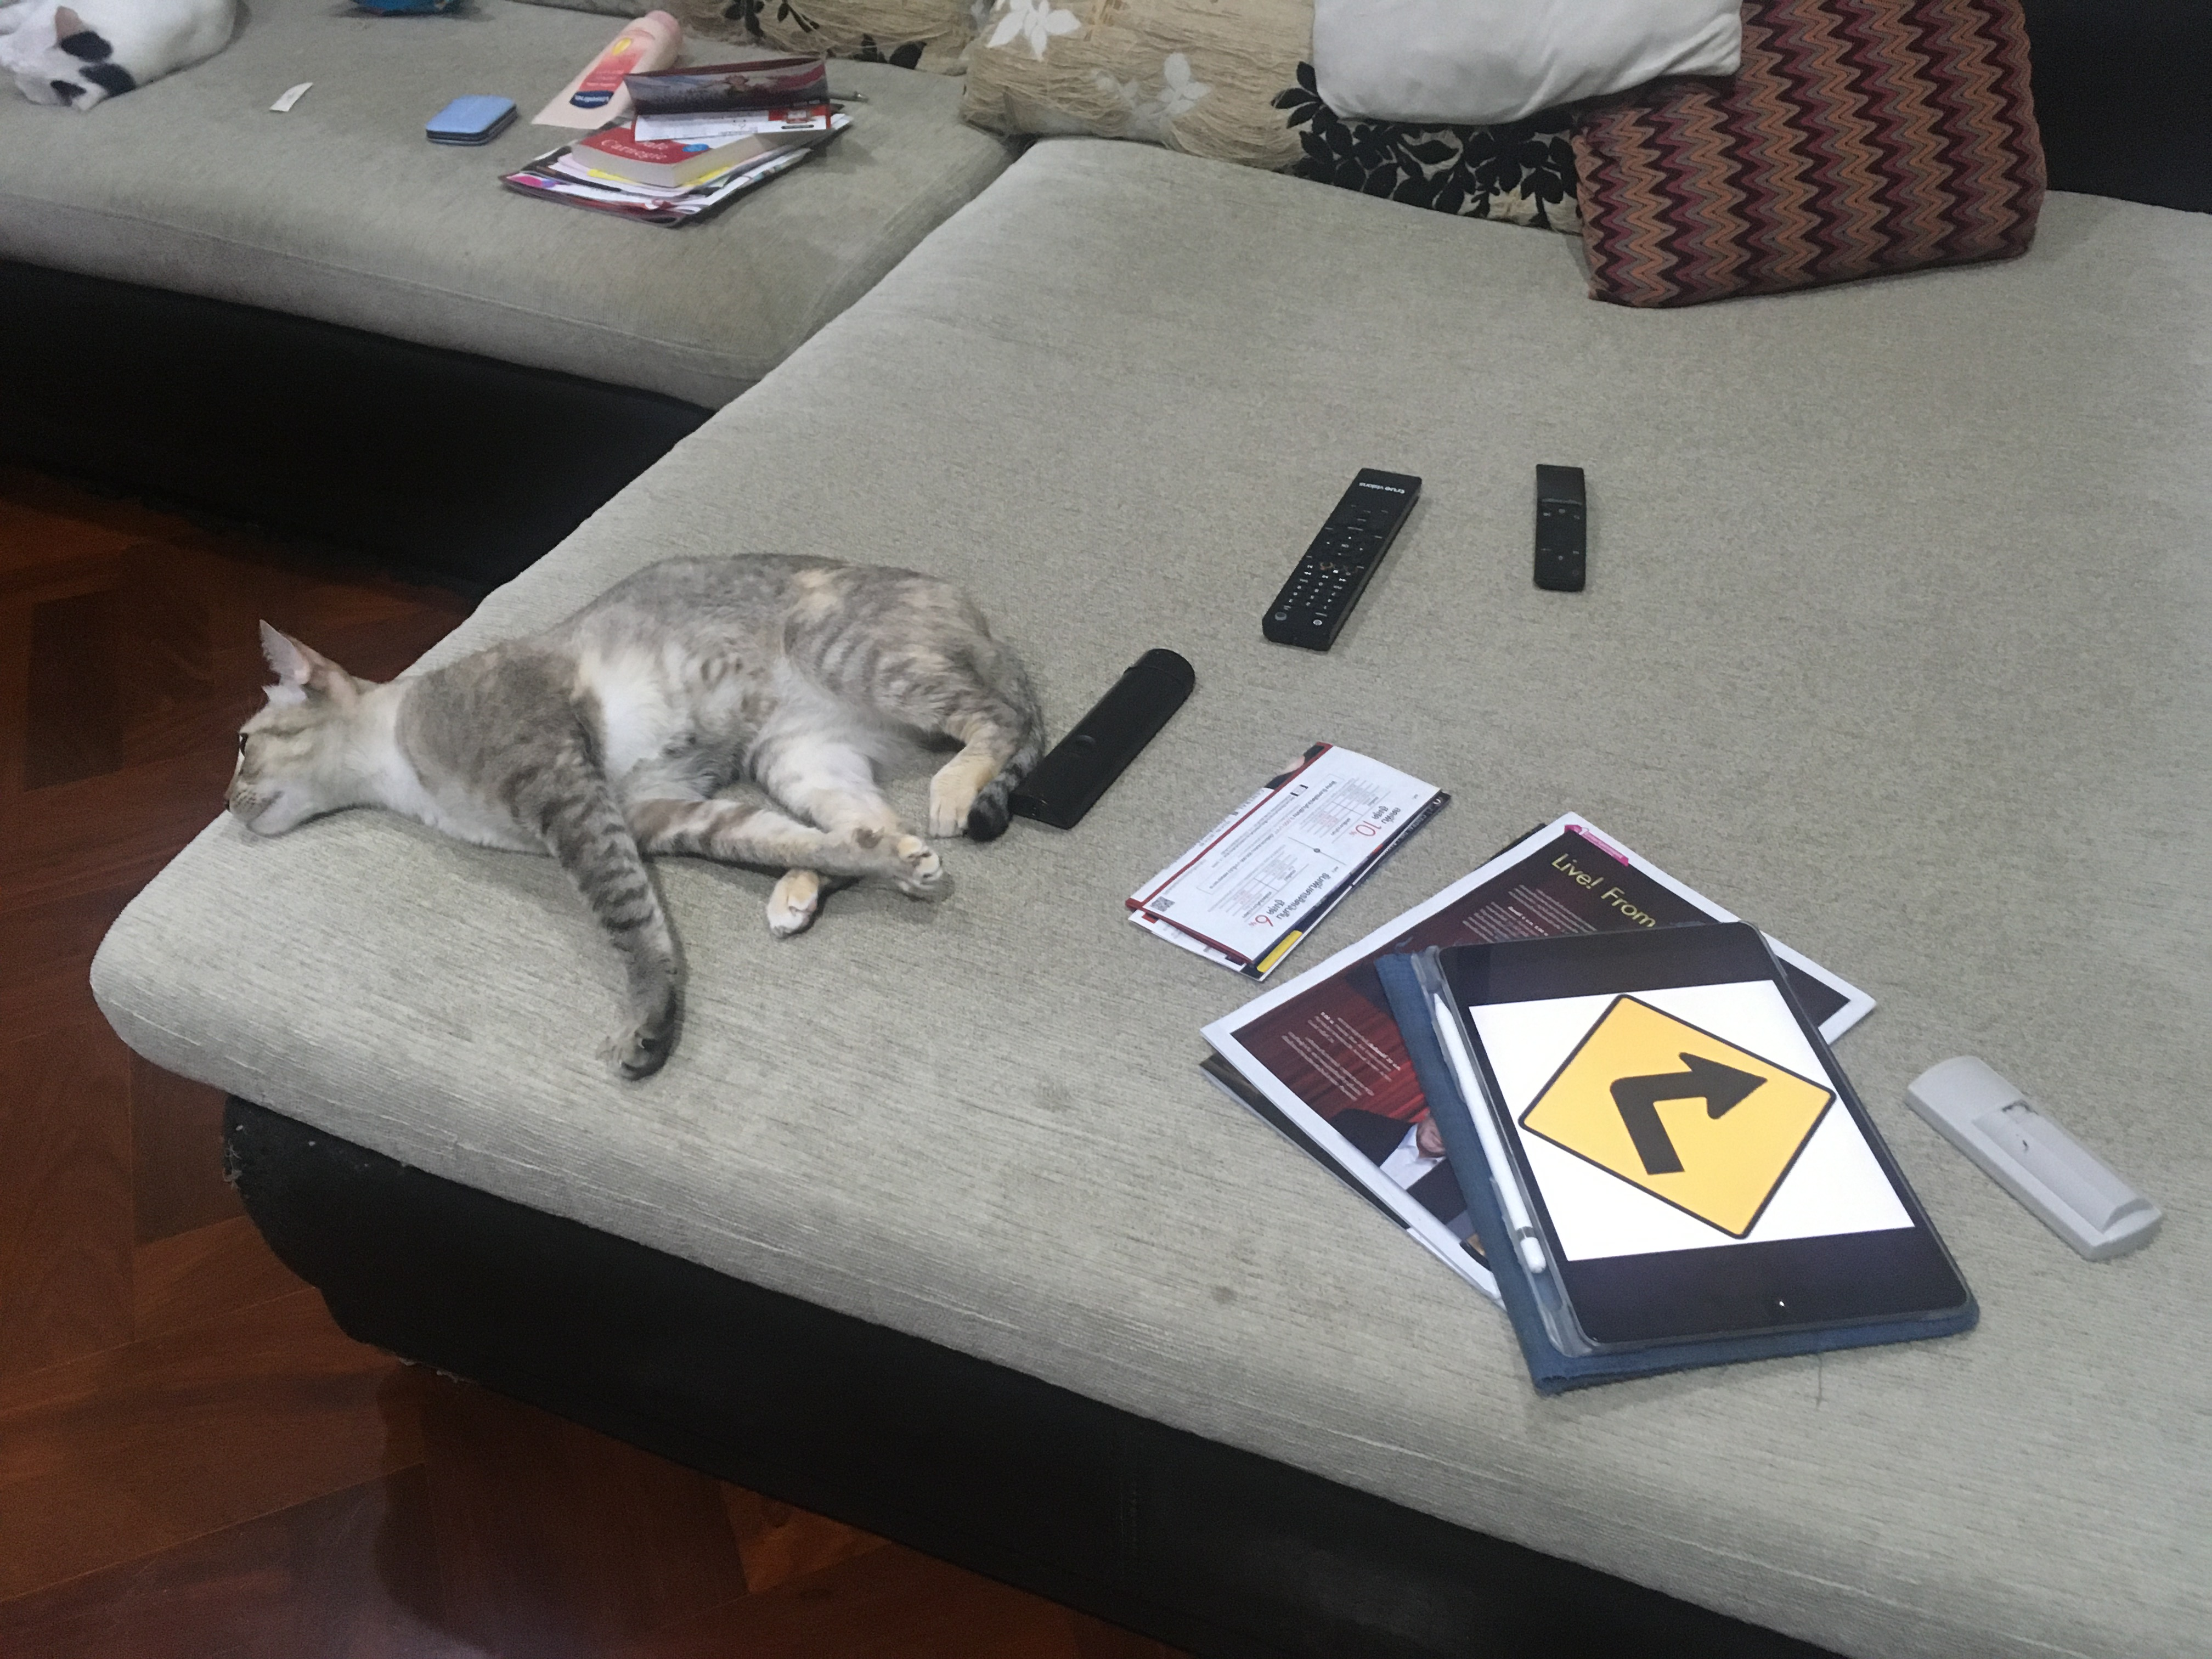right: (1506, 992, 1842, 1241)
